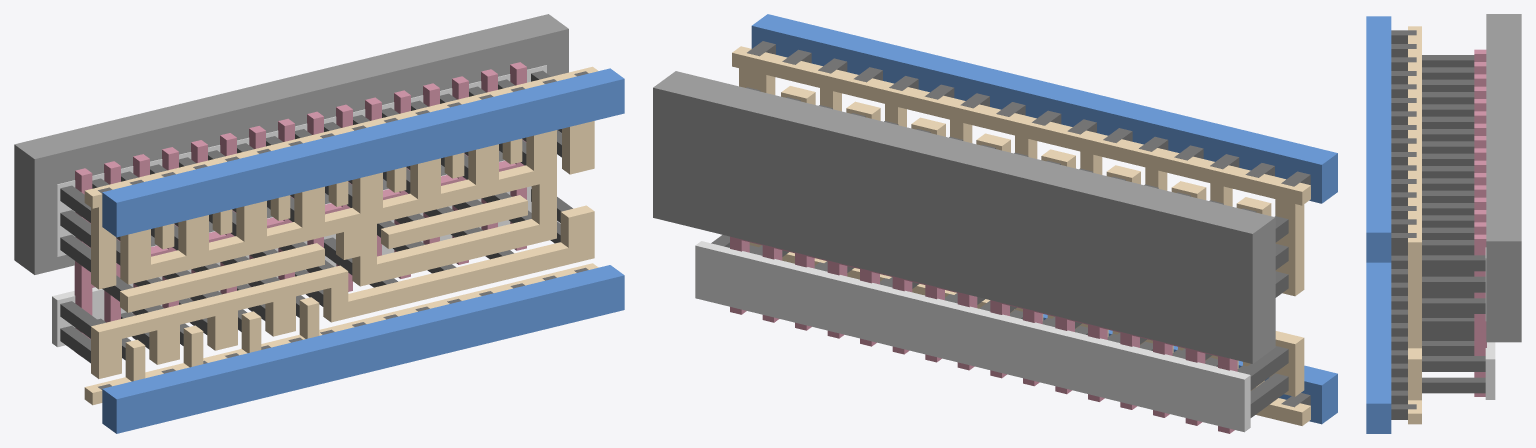
File: sky130_fd_sc_hd__nand2_8.gds.gltf
3 renders of one model, left to right at view 1: azimuth 30°, elevation 25°; view 2: azimuth 150°, elevation 25°; view 3: azimuth 270°, elevation 25°, orthographic. The views are drawn at different scales.
Visible parts, largest first — view 1: sky130_fd_sc_hd__nand2_8_li1, sky130_fd_sc_hd__nand2_8_met1, sky130_fd_sc_hd__nand2_8_nwell, sky130_fd_sc_hd__nand2_8_licon, sky130_fd_sc_hd__nand2_8_poly, sky130_fd_sc_hd__nand2_8_diff, sky130_fd_sc_hd__nand2_8_mcon; view 2: sky130_fd_sc_hd__nand2_8_nwell, sky130_fd_sc_hd__nand2_8_diff, sky130_fd_sc_hd__nand2_8_li1, sky130_fd_sc_hd__nand2_8_met1, sky130_fd_sc_hd__nand2_8_poly, sky130_fd_sc_hd__nand2_8_licon, sky130_fd_sc_hd__nand2_8_mcon; view 3: sky130_fd_sc_hd__nand2_8_licon, sky130_fd_sc_hd__nand2_8_nwell, sky130_fd_sc_hd__nand2_8_met1, sky130_fd_sc_hd__nand2_8_mcon, sky130_fd_sc_hd__nand2_8_li1, sky130_fd_sc_hd__nand2_8_poly, sky130_fd_sc_hd__nand2_8_diff.
Boxes of the visible parts, <box> form: sky130_fd_sc_hd__nand2_8_li1: <box>84,66,598,405</box>; sky130_fd_sc_hd__nand2_8_met1: <box>102,68,624,433</box>; sky130_fd_sc_hd__nand2_8_nwell: <box>14,14,568,274</box>; sky130_fd_sc_hd__nand2_8_licon: <box>60,70,572,363</box>; sky130_fd_sc_hd__nand2_8_poly: <box>74,62,526,356</box>; sky130_fd_sc_hd__nand2_8_diff: <box>52,65,546,347</box>; sky130_fd_sc_hd__nand2_8_mcon: <box>98,71,588,389</box>; sky130_fd_sc_hd__nand2_8_nwell: <box>653,71,1275,363</box>; sky130_fd_sc_hd__nand2_8_diff: <box>695,241,1250,432</box>; sky130_fd_sc_hd__nand2_8_li1: <box>732,46,1310,425</box>; sky130_fd_sc_hd__nand2_8_met1: <box>751,14,1337,424</box>; sky130_fd_sc_hd__nand2_8_poly: <box>730,236,1237,433</box>; sky130_fd_sc_hd__nand2_8_licon: <box>711,87,1288,417</box>; sky130_fd_sc_hd__nand2_8_mcon: <box>747,41,1310,407</box>; sky130_fd_sc_hd__nand2_8_licon: <box>1422,55,1485,393</box>; sky130_fd_sc_hd__nand2_8_nwell: <box>1486,14,1521,342</box>; sky130_fd_sc_hd__nand2_8_met1: <box>1366,16,1391,433</box>; sky130_fd_sc_hd__nand2_8_mcon: <box>1391,30,1416,419</box>; sky130_fd_sc_hd__nand2_8_li1: <box>1408,26,1421,424</box>; sky130_fd_sc_hd__nand2_8_poly: <box>1474,49,1486,396</box>; sky130_fd_sc_hd__nand2_8_diff: <box>1485,247,1495,399</box>.
Size of the model in its own units: 7.74 by 3.2 by 2.24.
